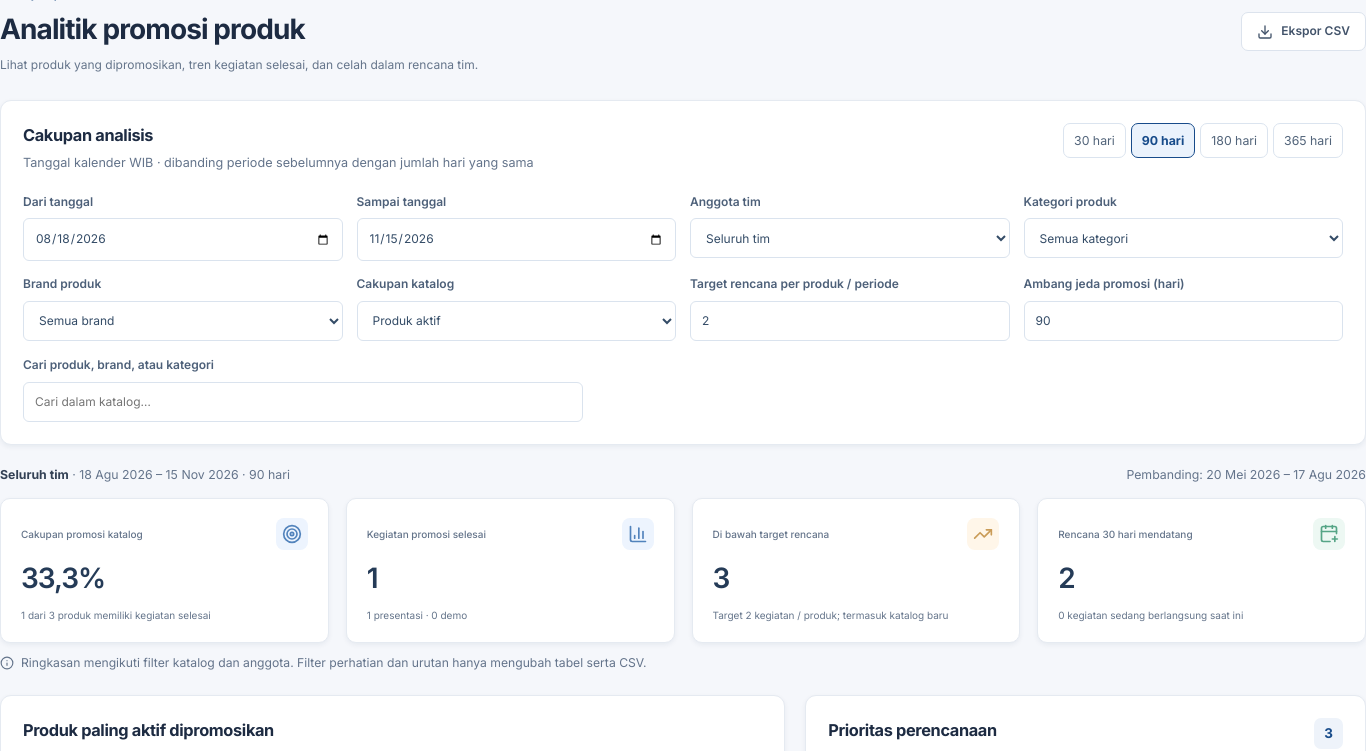
Scenario: product analytics decision flows › disables planning for inactive while leaving analytics readable
The width and height of the screenshot is (1366, 751).
Later steps or results of the test are not shown.
Select "Aktif dan nonaktif" in the dropdown labelled "Cakupan katalog" at [516, 320], box [356, 300, 676, 340]
(page scrolled)
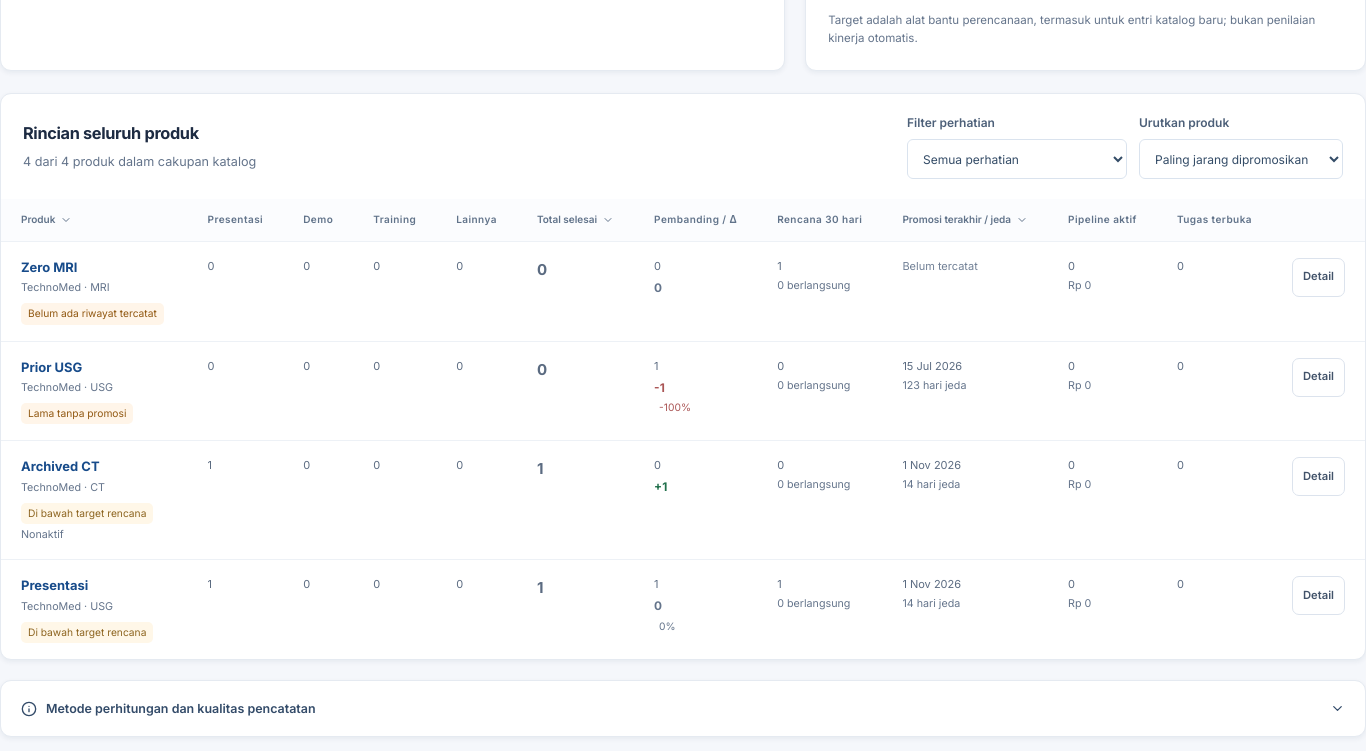
Click the button with aria-label "Lihat analitik Archived CT" at [1318, 477], box [1292, 457, 1345, 496]
(page scrolled)
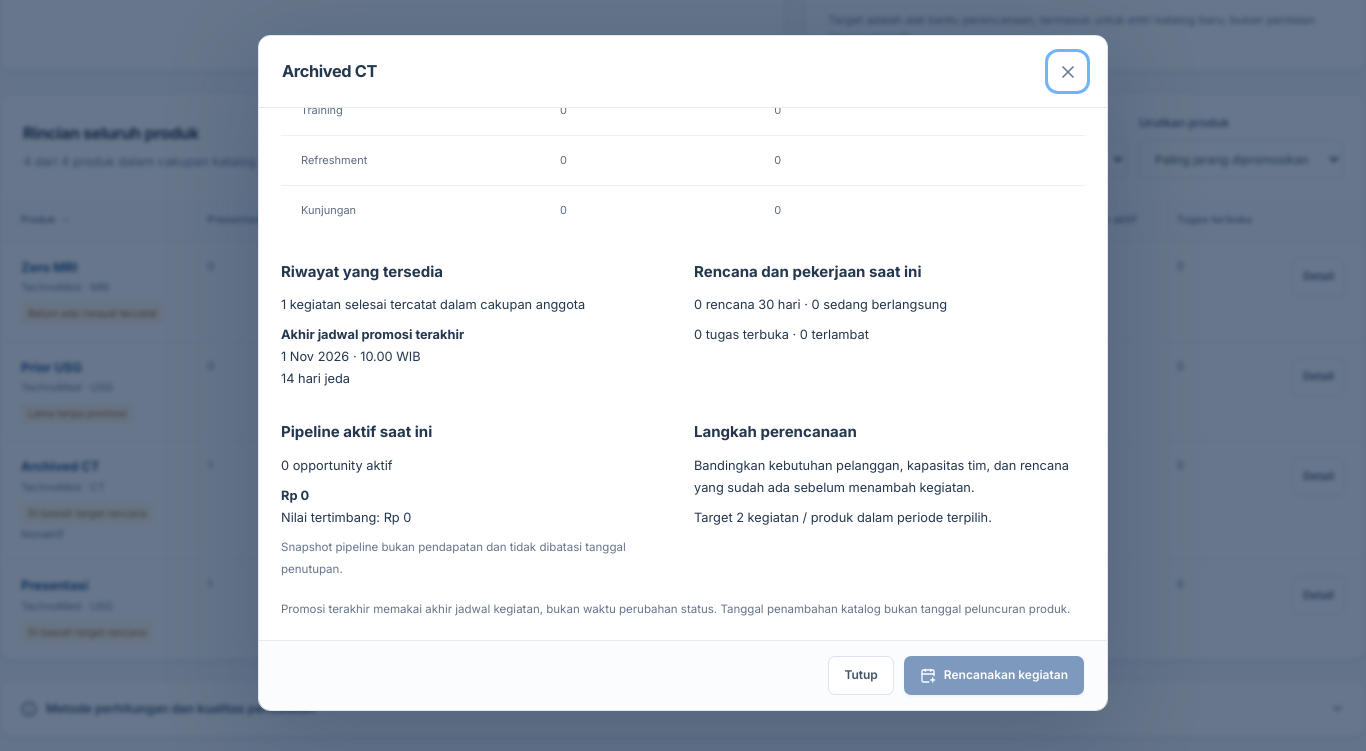
Result: the button "Rencanakan kegiatan" is disabled at [904, 656, 1084, 695]
